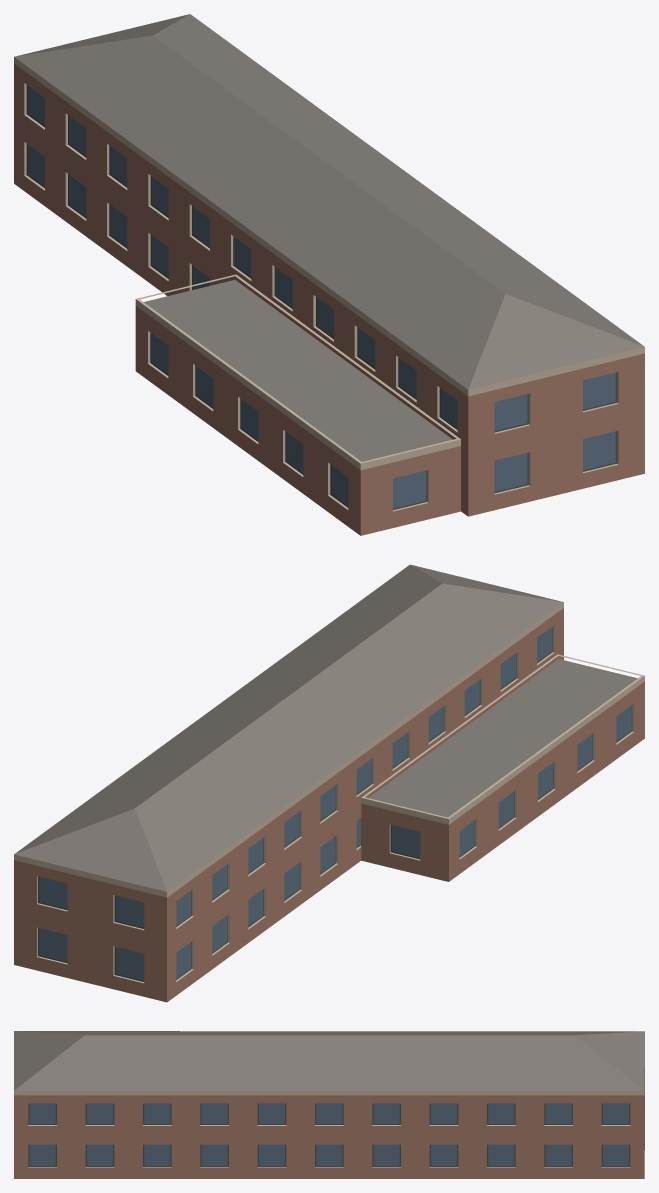
Rendered from dc-au-osborn-building.detail.glb.
The picture shows the model from 3 angles, top to bottom: view 1: azimuth 30°, elevation 25°; view 2: azimuth 150°, elevation 25°; view 3: azimuth 270°, elevation 25°; orthographic projection. The views are drawn at different scales.
Parts seen in each view (by area): view 1: Osborn Building; view 2: Osborn Building; view 3: Osborn Building.
Boxes of the visible parts, <box> form: Osborn Building: <box>14,14,644,535</box>; Osborn Building: <box>14,564,644,1002</box>; Osborn Building: <box>14,1031,644,1178</box>.
Size of the model in its own units: 14.05 by 7.95 by 39.97.
